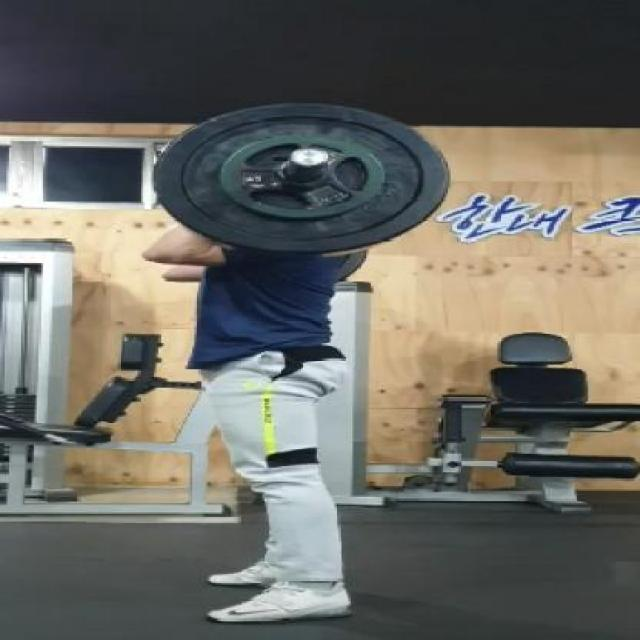Barbell: (288, 144, 336, 170)
